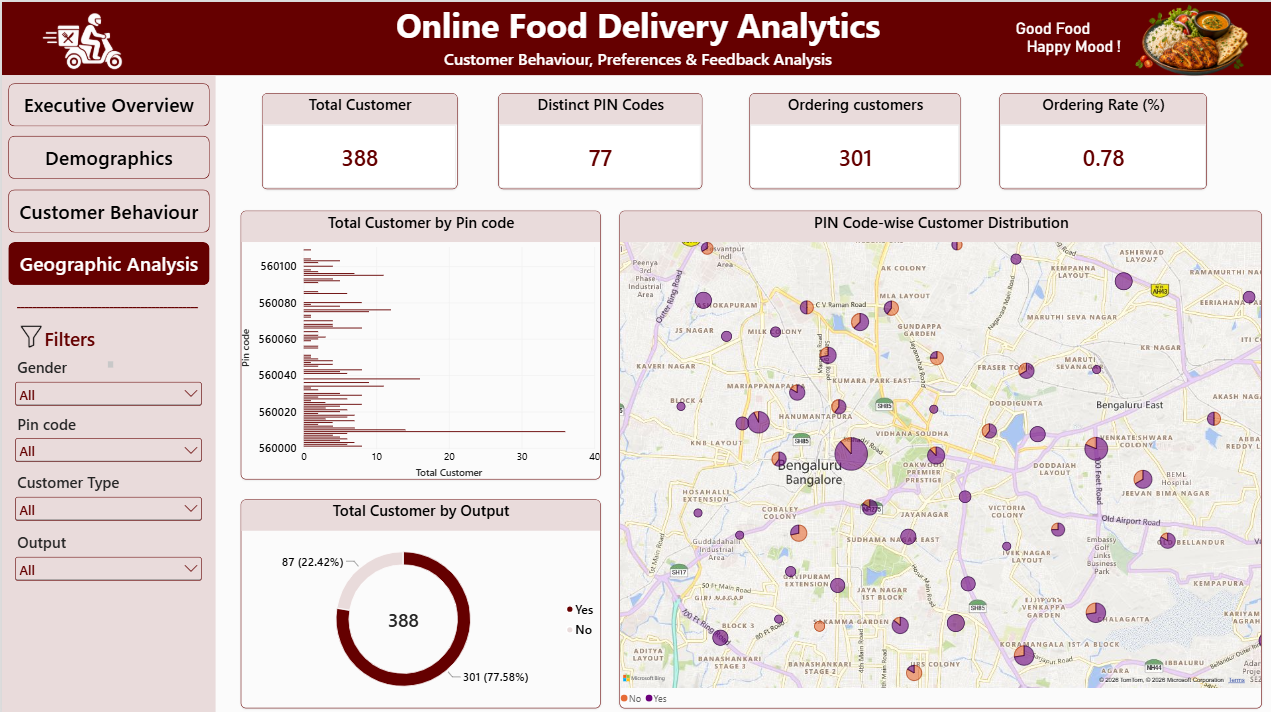

The dashboard page shown, as its layout file describes it:
{"tool":"powerbi","page":{"name":"Geographic Analysis","canvas":[1920,1080],"ordinal":3},"visuals":[{"type":"textbox","title":"Online Food Delivery Analytics","box":[0,0,1920.1,110.4],"z":0},{"type":"image","box":[36.2,0,175.5,110.4],"z":1000},{"type":"image","box":[1545.5,0,356.5,123.1],"z":2000},{"type":"textbox","box":[0,110.4,322.1,970],"z":3000},{"type":"actionButton","box":[9,123.1,304,65.1],"z":4000},{"type":"textbox","box":[1467.6,27.1,237.1,128.5],"z":5000},{"type":"actionButton","box":[9,202.7,304,65.1],"z":6000},{"type":"actionButton","box":[9,282.3,304,65.1],"z":7000},{"type":"actionButton","box":[9,361.9,304,65.1],"z":8000},{"type":"textbox","box":[21.7,445.2,291.4,181],"z":9000},{"type":"textbox","title":"Filters","box":[36.2,488.6,132.1,63.3],"z":10000},{"type":"image","box":[21.7,488.6,43.4,32.6],"z":11000},{"type":"slicer","title":"Gender","fields":{"Values":["online food delivery dataset (1).Gender"]},"box":[14.5,535.7,291.4,85.1],"z":12000},{"type":"slicer","fields":{"Values":["online food delivery dataset (1).Pin code"]},"box":[14.5,620.7,291.4,88.7],"z":13000},{"type":"slicer","fields":{"Values":["online food delivery dataset (1).Customer Type"]},"box":[14.5,709.4,291.4,90.5],"z":14000},{"type":"slicer","fields":{"Values":["online food delivery dataset (1).Output"]},"box":[14.5,799.9,291.4,92.3],"z":15000},{"type":"cardVisual","title":"Total Customer","fields":{"Data":["online food delivery dataset (1).Total Customer"]},"box":[392.7,137.5,295,144.8],"z":16000},{"type":"cardVisual","title":"Distinct PIN Codes","fields":{"Data":["online food delivery dataset (1).Distinct PIN Codes"]},"box":[749.2,137.5,307.6,144.8],"z":17000},{"type":"cardVisual","title":"Ordering customers","fields":{"Data":["online food delivery dataset (1).Ordering customers"]},"box":[1127.4,137.5,318.5,144.8],"z":18000},{"type":"cardVisual","title":"Ordering Rate  (%)","fields":{"Data":["online food delivery dataset (1).Ordering Rate"]},"box":[1505.6,137.5,313.1,144.8],"z":19000},{"type":"clusteredBarChart","fields":{"Category":["online food delivery dataset (1).Pin code"],"Y":["online food delivery dataset (1).Total Customer"]},"box":[360.1,314.9,542.9,405.4],"z":20000},{"type":"donutChart","fields":{"Category":["online food delivery dataset (1).Output"],"Y":["online food delivery dataset (1).Total Customer"]},"box":[360.1,751,542.9,314.9],"z":21000},{"type":"map","title":"PIN Code-wise Customer Distribution","fields":{"Series":["online food delivery dataset (1).Output"],"Size":["online food delivery dataset (1).Total Customer"],"X":["online food delivery dataset (1).longitude"],"Y":["online food delivery dataset (1).latitude"]},"box":[932,314.9,970,751],"z":22000}]}

Visuals, with their boxes in screenshot pixels (x1, y1, x2, y2), scaled from the page's 1920x1080 canvas onto the 1271x712 screenshot:
"Online Food Delivery Analytics" textbox: (0, 0, 1270, 73)
image: (24, 0, 140, 73)
image: (1023, 0, 1259, 81)
textbox: (0, 73, 213, 711)
actionButton: (6, 81, 207, 124)
textbox: (972, 18, 1128, 103)
actionButton: (6, 134, 207, 177)
actionButton: (6, 186, 207, 229)
actionButton: (6, 239, 207, 282)
textbox: (14, 294, 207, 413)
"Filters" textbox: (24, 322, 111, 364)
image: (14, 322, 43, 344)
"Gender" slicer: (10, 353, 202, 409)
slicer - online food delivery dataset (1).Pin code: (10, 409, 202, 468)
slicer - online food delivery dataset (1).Customer Type: (10, 468, 202, 527)
slicer - online food delivery dataset (1).Output: (10, 527, 202, 588)
"Total Customer" cardVisual: (260, 91, 455, 186)
"Distinct PIN Codes" cardVisual: (496, 91, 700, 186)
"Ordering customers" cardVisual: (746, 91, 957, 186)
"Ordering Rate  (%)" cardVisual: (997, 91, 1204, 186)
clusteredBarChart - online food delivery dataset (1).Pin code x online food delivery dataset (1).Total Customer: (238, 208, 598, 475)
donutChart - online food delivery dataset (1).Output x online food delivery dataset (1).Total Customer: (238, 495, 598, 703)
"PIN Code-wise Customer Distribution" map: (617, 208, 1259, 703)
